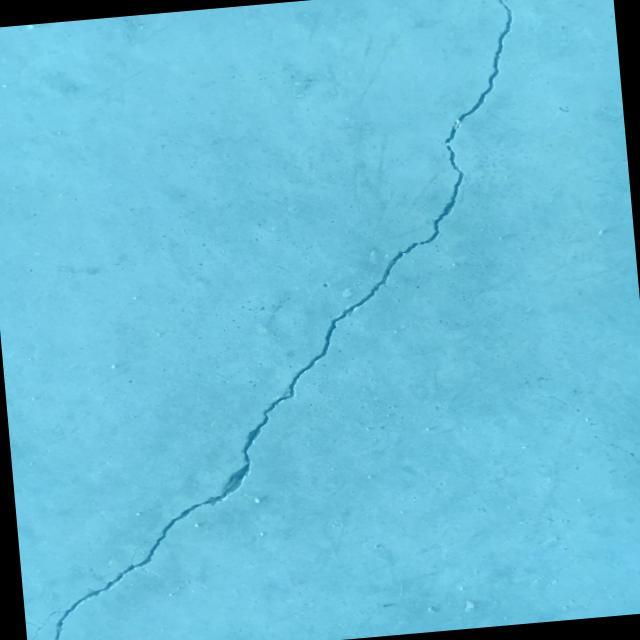crack: (0, 0, 602, 640), (589, 417, 640, 475)
